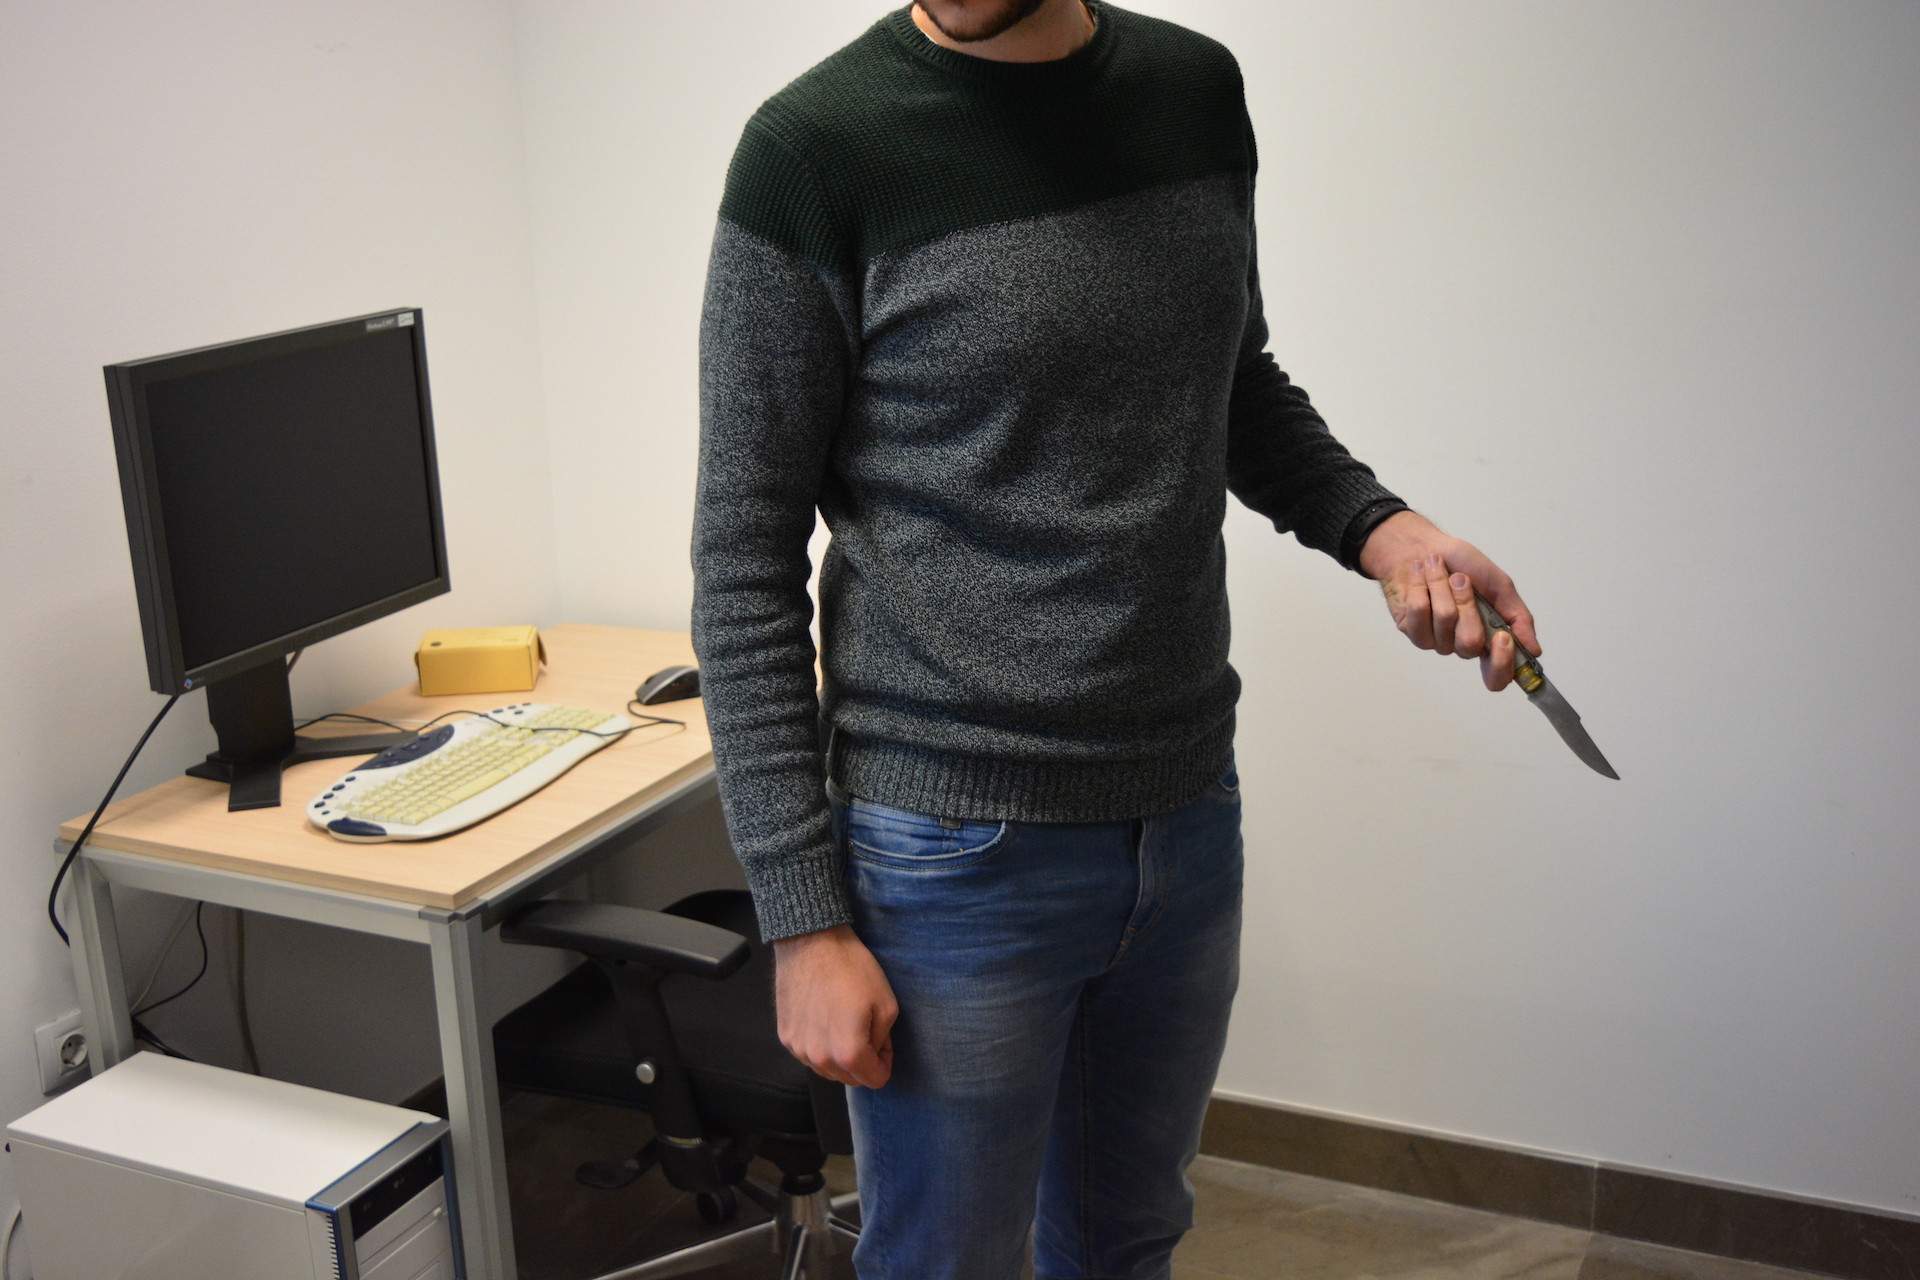knife: (1434, 563, 1631, 791)
